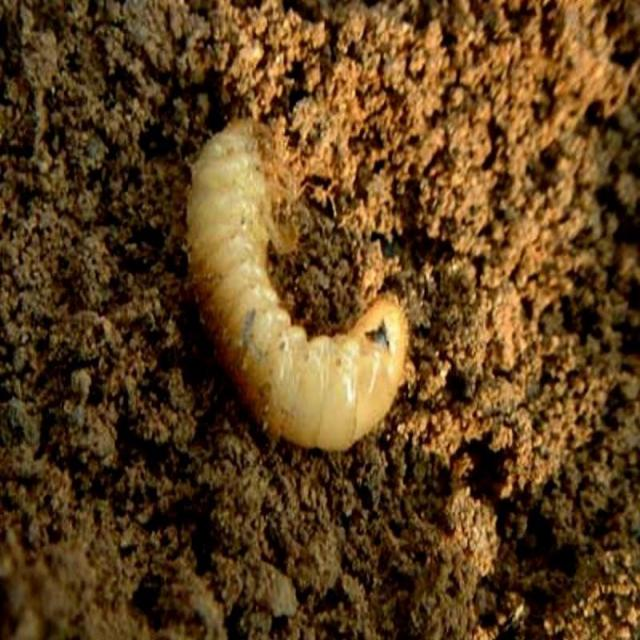Grub-Adult-: (146, 104, 412, 441)
